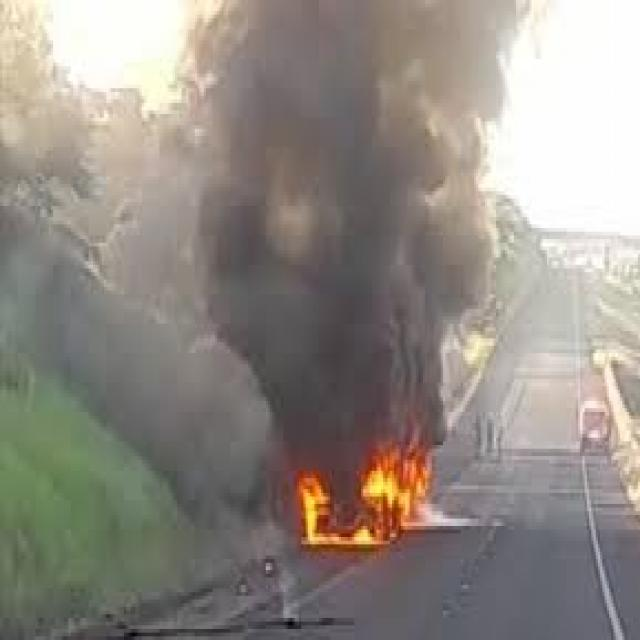fire: (299, 452, 436, 556)
smoke: (197, 4, 552, 452)
